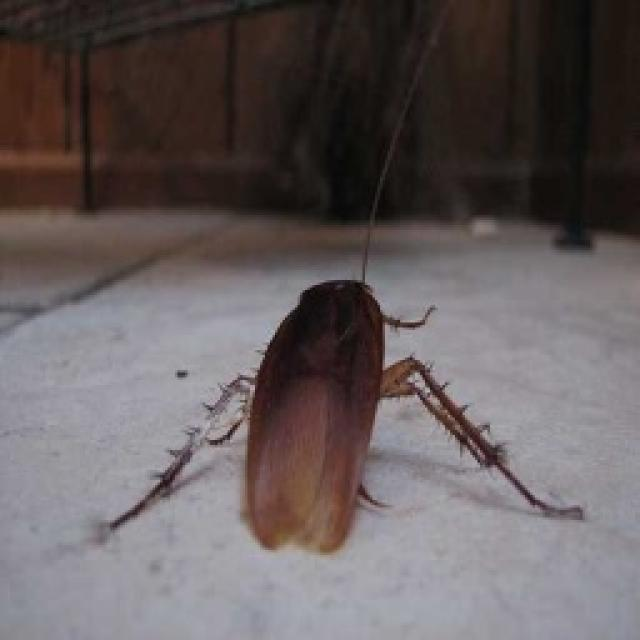cockroach: (182, 272, 482, 556)
